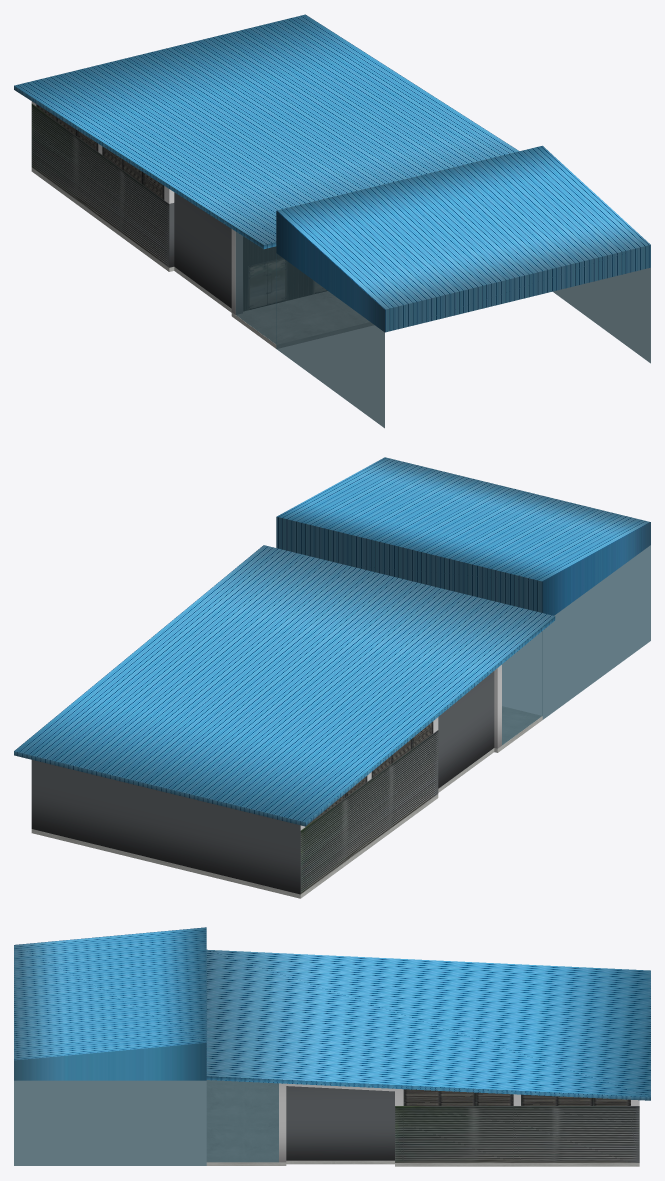
The model's file is 18-GC-OUT-warehouse-equipment.glb.
3 views of the same model, one above another, from view 1: azimuth 30°, elevation 25°; view 2: azimuth 150°, elevation 25°; view 3: azimuth 270°, elevation 25° (orthographic). The views are drawn at different scales.
Visible parts, largest first — view 1: roof, warehouse-equipment, Line002, Line005, Box003; view 2: roof, Line002, warehouse-equipment, Line005; view 3: roof, warehouse-equipment, Line002, Line005.
Part boxes in pixels (<box>): roof: <box>14,14,650,332</box>; warehouse-equipment: <box>36,104,650,428</box>; Line002: <box>31,101,311,314</box>; Line005: <box>31,167,373,348</box>; Box003: <box>247,258,326,309</box>; roof: <box>14,457,650,826</box>; Line002: <box>31,664,501,894</box>; warehouse-equipment: <box>305,545,650,826</box>; Line005: <box>31,706,542,898</box>; roof: <box>14,927,650,1100</box>; warehouse-equipment: <box>14,1080,630,1165</box>; Line002: <box>279,1083,639,1162</box>; Line005: <box>206,1080,639,1166</box>.
Bounding box in the file's own units: 14.45 × 6.56 × 30.75.
11 materials, 9 textured.
